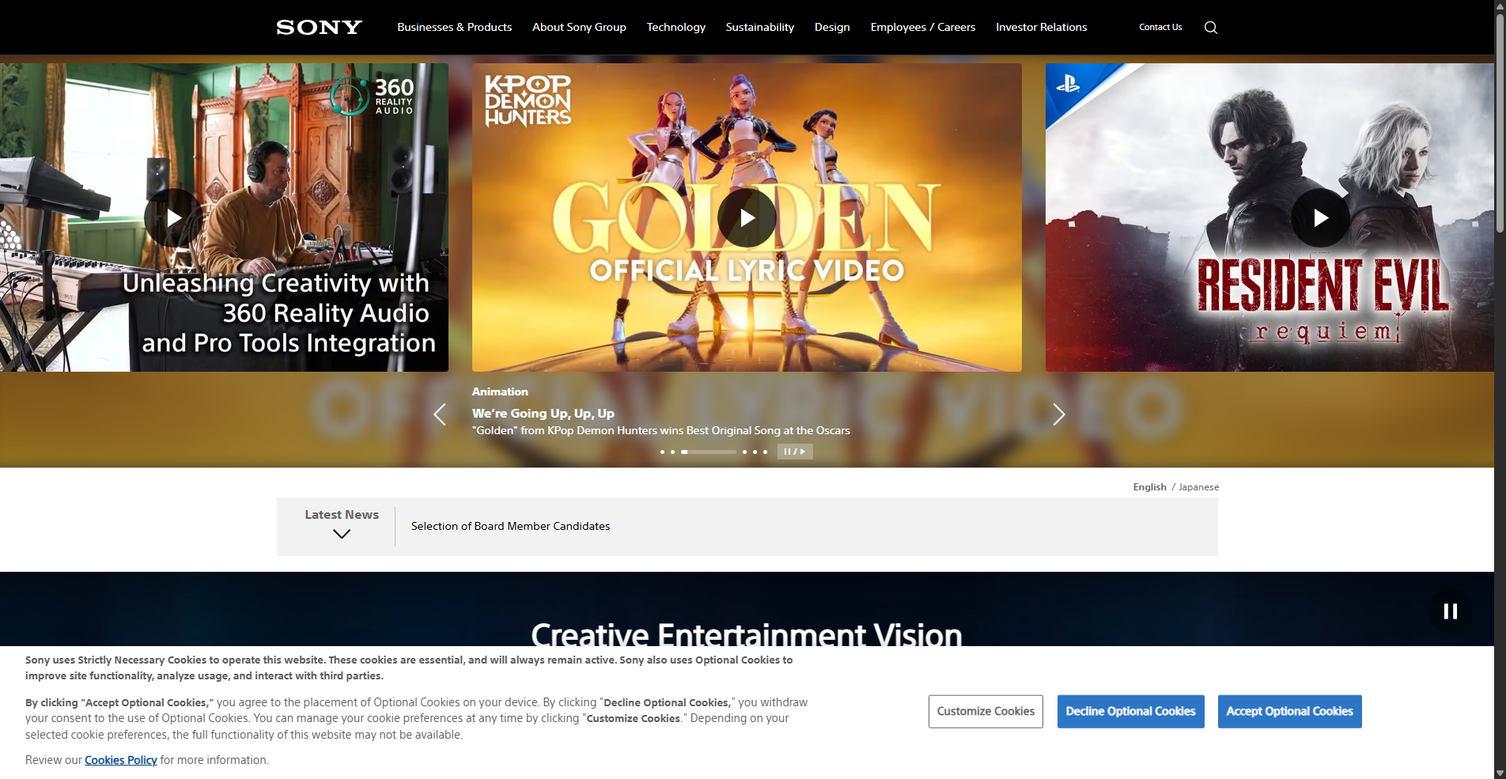button: (472, 63, 1022, 372), (1046, 63, 1506, 372), (0, 63, 448, 372), (822, 685, 1479, 740), (1057, 695, 1204, 728), (1218, 695, 1362, 728), (929, 695, 1044, 728), (1423, 588, 1478, 637), (1203, 0, 1218, 55), (777, 444, 813, 459)
icon: (333, 529, 351, 539)
link: (472, 63, 1022, 372), (1046, 63, 1506, 372), (0, 63, 448, 372), (755, 716, 1218, 779), (276, 716, 739, 779), (472, 407, 1022, 437), (1046, 407, 1506, 437), (0, 407, 448, 437), (387, 6, 522, 49), (860, 6, 986, 49), (522, 6, 637, 49), (986, 6, 1098, 49), (276, 1, 362, 54), (716, 6, 804, 49), (637, 6, 716, 49), (411, 519, 610, 535), (804, 6, 860, 49), (305, 509, 379, 538), (85, 753, 157, 768), (1450, 745, 1478, 767), (1179, 481, 1219, 494), (433, 403, 455, 426), (1043, 403, 1065, 426), (1139, 24, 1182, 32), (671, 450, 726, 454), (660, 450, 664, 454), (732, 450, 736, 454), (743, 450, 747, 454), (753, 450, 757, 454), (763, 450, 767, 454)
